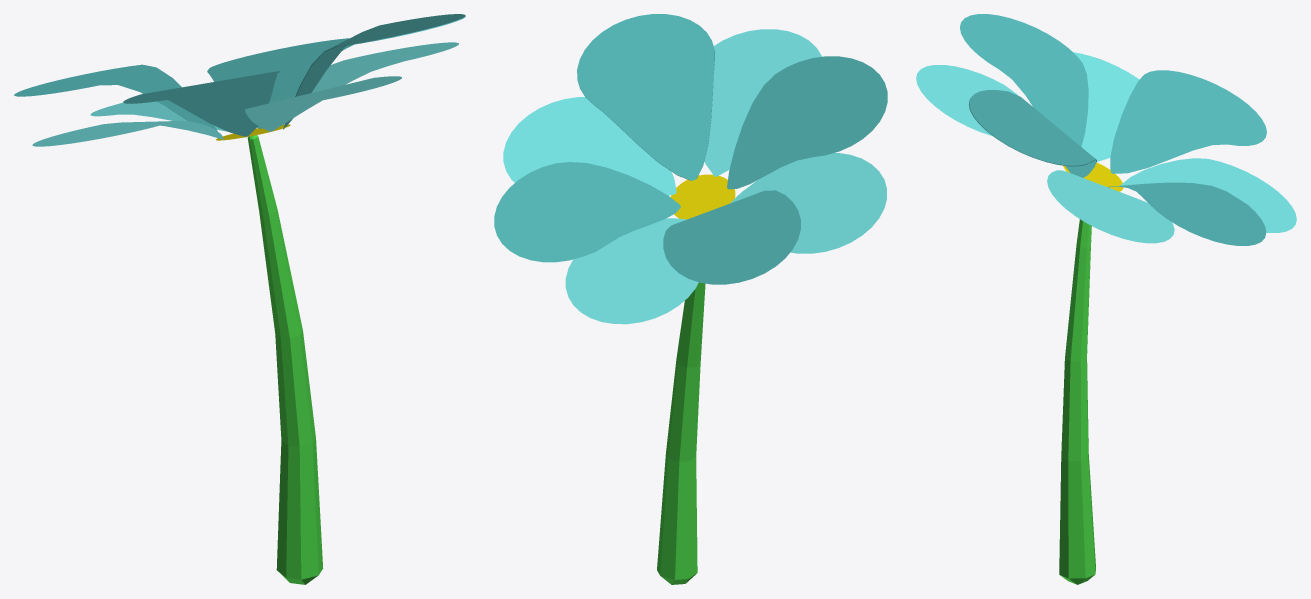
The picture shows the model from 3 angles, left to right: view 1: azimuth 30°, elevation 25°; view 2: azimuth 150°, elevation 25°; view 3: azimuth 270°, elevation 25°; orthographic projection. The views are drawn at different scales.
Visible parts, largest first — view 1: Flower; view 2: Flower; view 3: Flower.
Boxes of the visible parts, bbox=[...] form: Flower: bbox=[14, 14, 465, 584]; Flower: bbox=[494, 14, 887, 584]; Flower: bbox=[916, 14, 1296, 584].
Bounding box in the file's own units: 0.3313 × 0.4456 × 0.3056.
